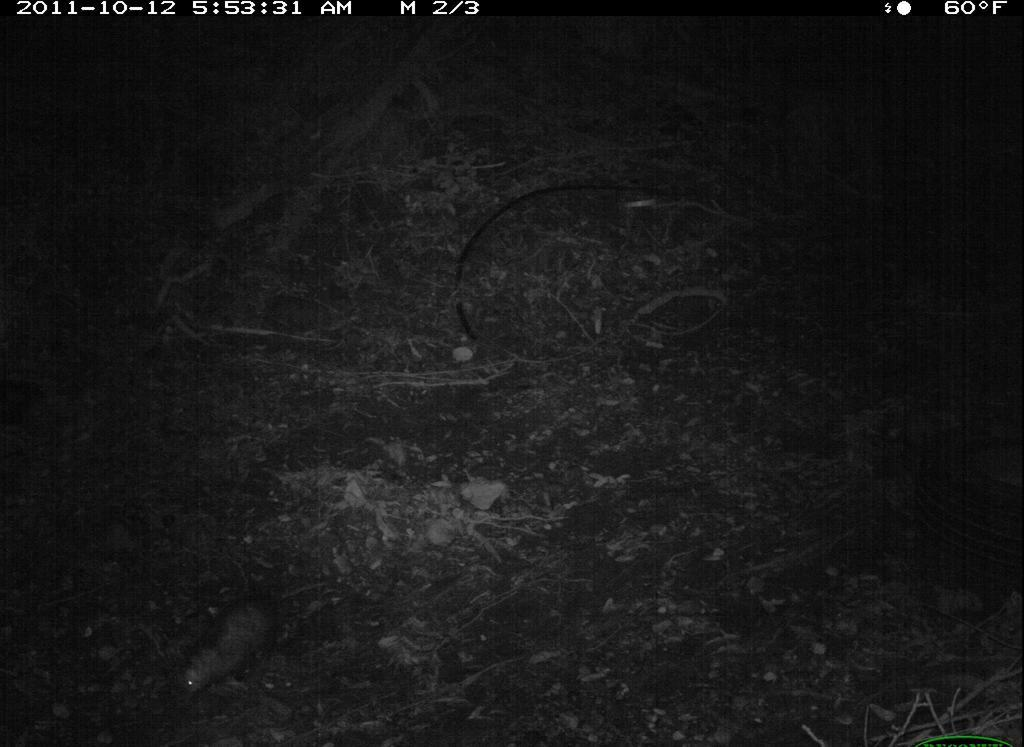opossum: (178, 577, 332, 699)
